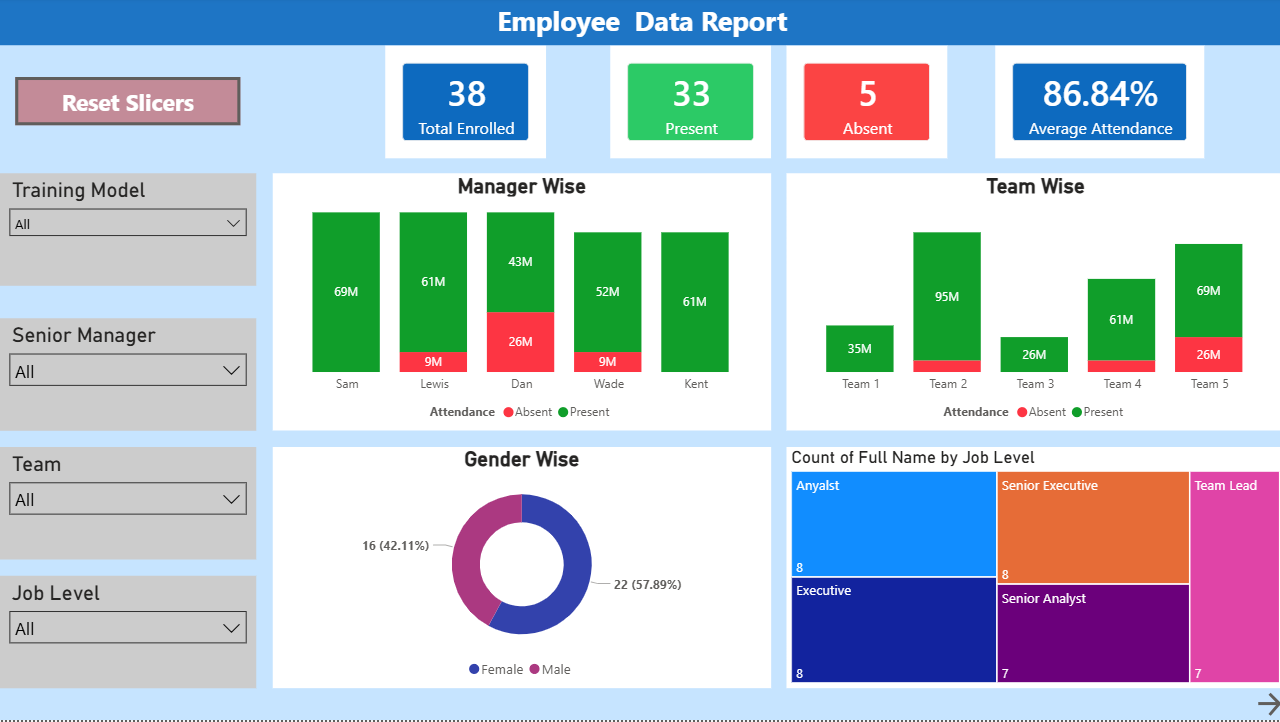

The page's visual inventory and layout, read from the dashboard file:
{"tool":"powerbi","page":{"name":"Page 1","canvas":[1280,720],"ordinal":0},"visuals":[{"type":"textbox","box":[0,0,1280,48],"z":0},{"type":"cardVisual","fields":{"Data":["CountNonNull(Data.Full Name)"]},"box":[384,48,160,112],"z":1000},{"type":"cardVisual","fields":{"Data":["CountNonNull(Data.Attendance)"]},"box":[608,48,160,112],"z":2000},{"type":"cardVisual","fields":{"Data":["CountNonNull(Data.Attendance)"]},"box":[784,48,160,112],"z":3000},{"type":"cardVisual","fields":{"Data":["Avg(Data.Attendance Status)"]},"box":[992,48,208,112],"z":4000},{"type":"columnChart","title":" Team Wise","fields":{"Category":["Data.Team"],"Y":["Sum(Data.Employee ID:)"],"Series":["Data.Attendance"]},"box":[784,176,496,256],"z":5000},{"type":"columnChart","title":"Manager Wise","fields":{"Category":["Data.Senior Manager"],"Y":["Sum(Data.Employee ID:)"],"Series":["Data.Attendance"]},"box":[272,176,496,256],"z":6000},{"type":"donutChart","title":"Gender Wise","fields":{"Category":["Data.Gender"],"Y":["CountNonNull(Data.Full Name)"]},"box":[272,448,496,240],"z":7000},{"type":"treemap","fields":{"Values":["CountNonNull(Data.Full Name)"],"Group":["Data.Job Level"]},"box":[784,448,496,240],"z":8000},{"type":"slicer","fields":{"Values":["Data.Model"]},"box":[0,176,256,112],"z":9000},{"type":"slicer","fields":{"Values":["Data.Senior Manager"]},"box":[0,320,256,112],"z":10000},{"type":"slicer","fields":{"Values":["Data.Job Level"]},"box":[0,576,256,112],"z":11000},{"type":"slicer","fields":{"Values":["Data.Team"]},"box":[0,448,256,112],"z":12000},{"type":"actionButton","box":[16,80,224,48],"z":13000},{"type":"actionButton","box":[1248,688,32,32],"z":14000}]}

Visuals, with their boxes in screenshot pixels (x1, y1, x2, y2), scaled from the page's 1280x720 canvas onto the 1280x722 screenshot:
textbox: Rect(0, 0, 1279, 48)
cardVisual - CountNonNull(Data.Full Name): Rect(384, 48, 544, 160)
cardVisual - CountNonNull(Data.Attendance): Rect(608, 48, 768, 160)
cardVisual - CountNonNull(Data.Attendance): Rect(784, 48, 944, 160)
cardVisual - Avg(Data.Attendance Status): Rect(992, 48, 1200, 160)
" Team Wise" columnChart: Rect(784, 176, 1279, 433)
"Manager Wise" columnChart: Rect(272, 176, 768, 433)
"Gender Wise" donutChart: Rect(272, 449, 768, 690)
treemap - CountNonNull(Data.Full Name) x Data.Job Level: Rect(784, 449, 1279, 690)
slicer - Data.Model: Rect(0, 176, 256, 289)
slicer - Data.Senior Manager: Rect(0, 321, 256, 433)
slicer - Data.Job Level: Rect(0, 578, 256, 690)
slicer - Data.Team: Rect(0, 449, 256, 562)
actionButton: Rect(16, 80, 240, 128)
actionButton: Rect(1248, 690, 1279, 721)
